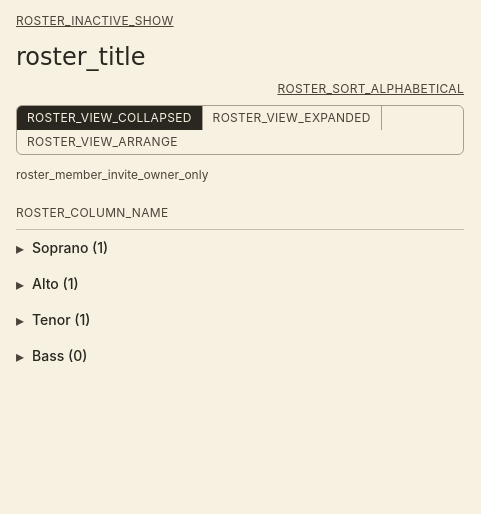
Test: /roster — F3: every empty section the page SHOWS offers a WORKING (non-disabled) remove control › gate repro — with EFK Bass (0) and another org's Bass (0) in the whole-db tree, every RENDERED "(0)" leaf row carries an ENABLED section-remove-<id>; never one-
Expected: the element with test id "roster-groups" is shown, [16,236,108,368]
Click the button with test id "roster-view-chip-arrange" at (102, 142), box [17,130,188,154]
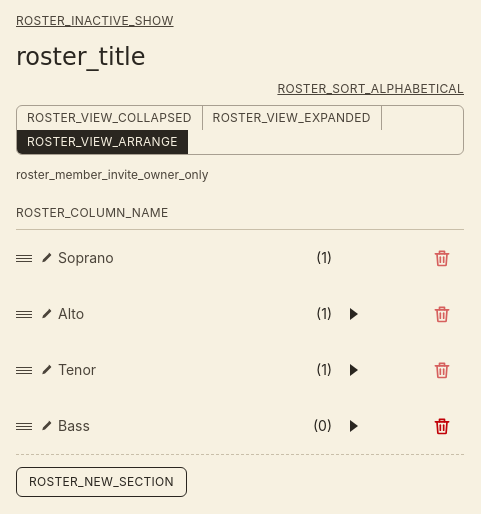
Expected: the text "(0)" is shown, [313,417,332,434]
Now the element with test id "roster-arrange-list" is shown, box [16,230,464,454]
